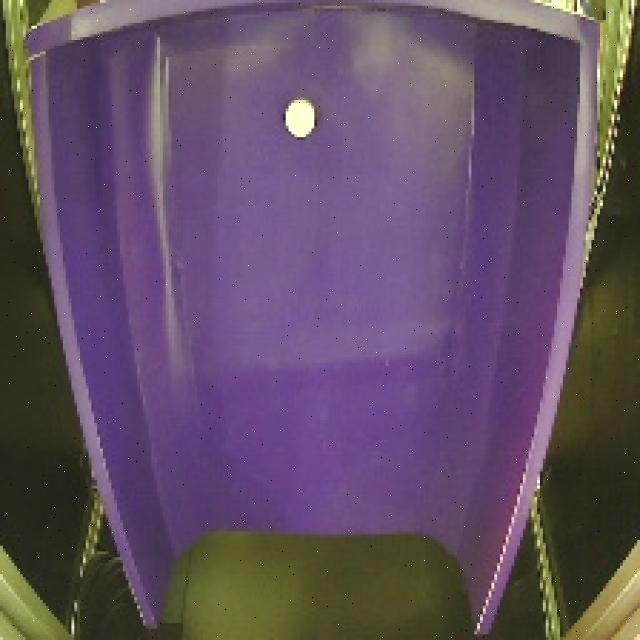small: (280, 95, 322, 147)
